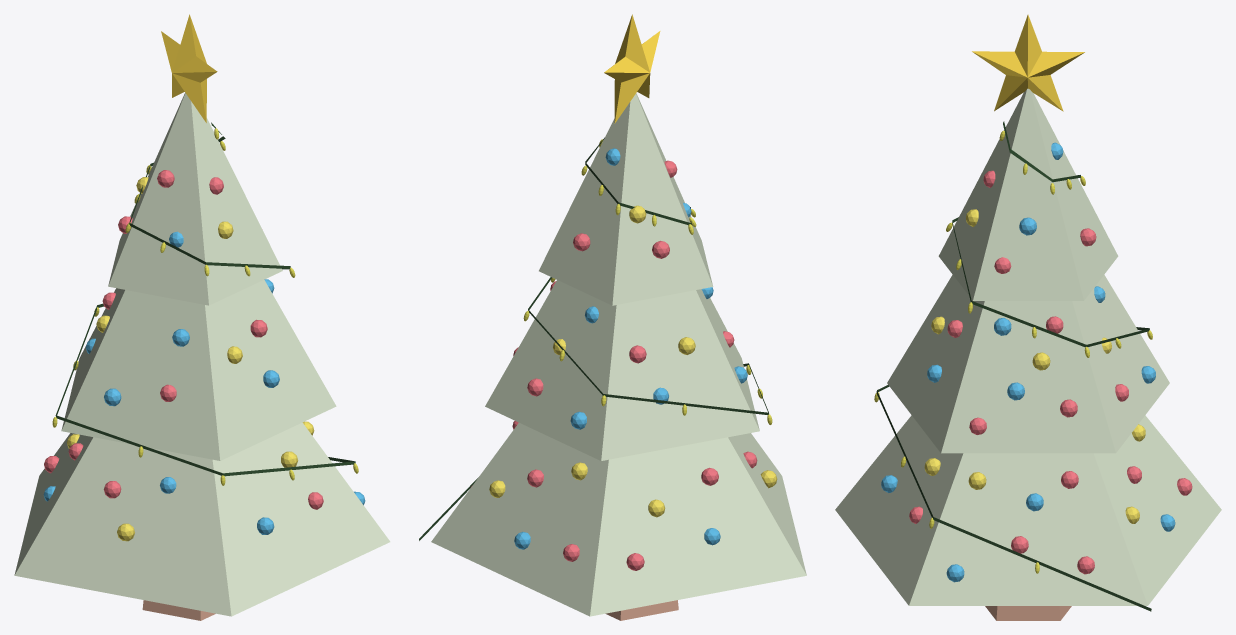
The model's file is chrtree.fbx.
3 views of the same model, side by side, from view 1: azimuth 30°, elevation 25°; view 2: azimuth 150°, elevation 25°; view 3: azimuth 270°, elevation 25° (orthographic).
Parts seen in each view (by area): view 1: chrtree; view 2: chrtree; view 3: chrtree.
Part boxes in pixels (<box>): chrtree: <box>14,14,390,620</box>; chrtree: <box>419,14,806,620</box>; chrtree: <box>835,14,1221,620</box>.
Bounding box in the file's own units: 4108 × 7021 × 4185.
